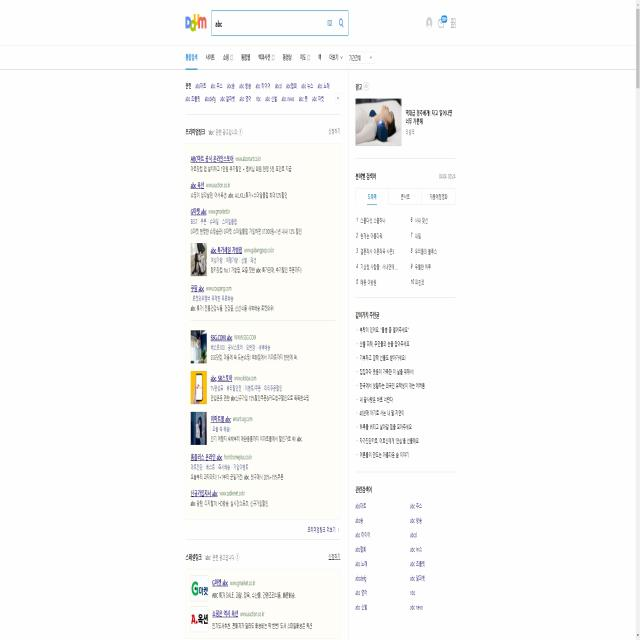menu-bar: (424, 10, 461, 34)
search: (210, 7, 348, 41)
side-panel: (346, 75, 462, 639)
tab-bar: (184, 46, 344, 72)
